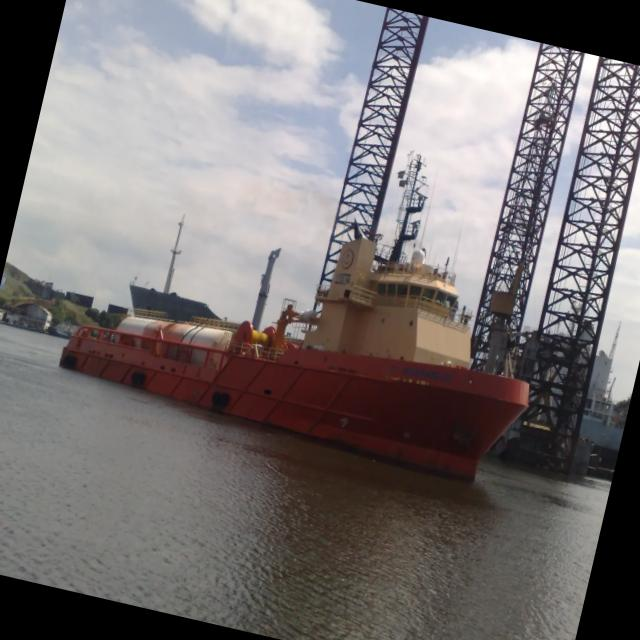Offshore: (59, 154, 528, 478)
